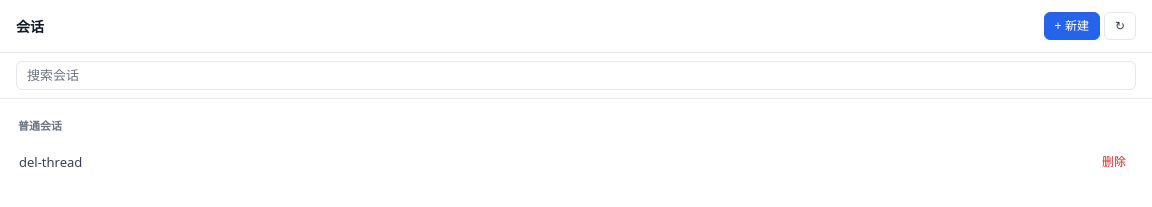
Test case: ThreadSidebar — 删除 › 第一次点击删除显示确认与取消按钮
The width and height of the screenshot is (1152, 207).
What coordinates should you click on to do the following:
click the button with aria-label "删除会话 del-thread"
I would click on:
 (1114, 162)
Its box is [1095,148,1133,176].
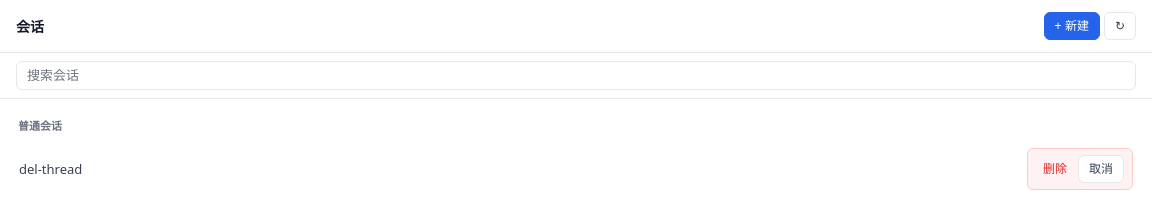
Now the button with aria-label "确认删除" is shown, box [1036,155,1074,183]
Now the button with aria-label "取消删除" is shown, box [1078,155,1124,183]
